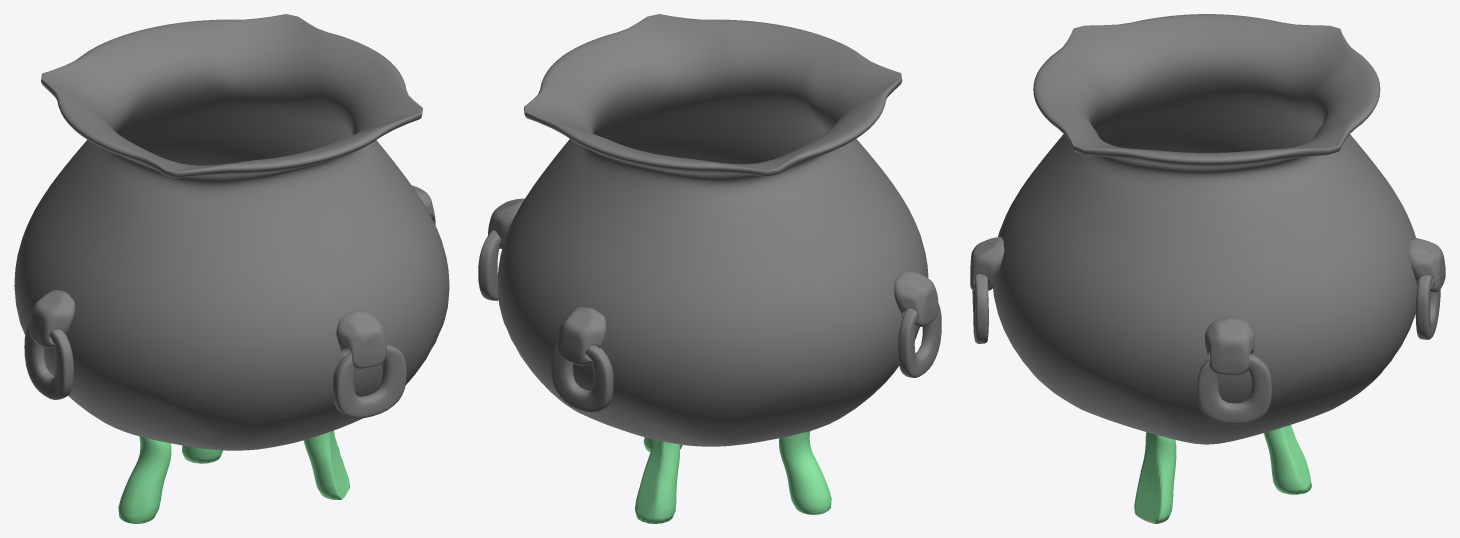
File: Cauldron_Basic_to_retopo.fbx
3 renders of one model, left to right at view 1: azimuth 30°, elevation 25°; view 2: azimuth 150°, elevation 25°; view 3: azimuth 270°, elevation 25°, orthographic.
Parts seen in each view (by area): view 1: Cauldron_to_FBX, PM3D_Cylinder3D3, Ring_handle_003, Ring_handle_002, UMesh_Ringholder_003, UMesh_Ringholder_005; view 2: Cauldron_to_FBX, PM3D_Cylinder3D3, Ring_handle_001, UMesh_Ringholder_006, Ring_handle_002, UMesh_Ringholder_005, Ring_handle_004, UMesh_Ringholder_004; view 3: Cauldron_to_FBX, PM3D_Cylinder3D3, Ring_handle_004, UMesh_Ringholder_004, UMesh_Ringholder_006, Ring_handle_001, UMesh_Ringholder_003, Ring_handle_003.
Part boxes in pixels (x1,y1,x2,y2): Cauldron_to_FBX: [14, 14, 449, 450]; PM3D_Cylinder3D3: [118, 430, 349, 523]; Ring_handle_003: [332, 344, 406, 418]; Ring_handle_002: [24, 324, 73, 399]; UMesh_Ringholder_003: [336, 310, 386, 368]; UMesh_Ringholder_005: [29, 290, 75, 348]; Cauldron_to_FBX: [497, 14, 928, 446]; PM3D_Cylinder3D3: [635, 431, 831, 523]; Ring_handle_001: [551, 344, 613, 412]; UMesh_Ringholder_006: [557, 307, 606, 365]; Ring_handle_002: [898, 304, 941, 377]; UMesh_Ringholder_005: [894, 270, 938, 326]; Ring_handle_004: [478, 230, 501, 300]; UMesh_Ringholder_004: [488, 198, 524, 248]; Cauldron_to_FBX: [993, 14, 1417, 444]; PM3D_Cylinder3D3: [1134, 425, 1311, 523]; Ring_handle_004: [1197, 354, 1271, 424]; UMesh_Ringholder_004: [1205, 317, 1254, 374]; UMesh_Ringholder_006: [1409, 237, 1445, 292]; Ring_handle_001: [1415, 275, 1440, 339]; UMesh_Ringholder_003: [970, 237, 1004, 290]; Ring_handle_003: [972, 274, 988, 343].
Bounding box in the file's own units: 710 × 655 × 714.
